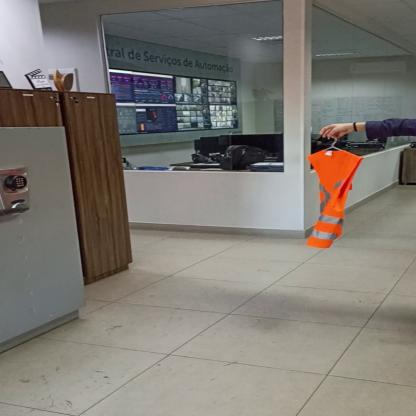colete: (297, 150, 364, 252)
